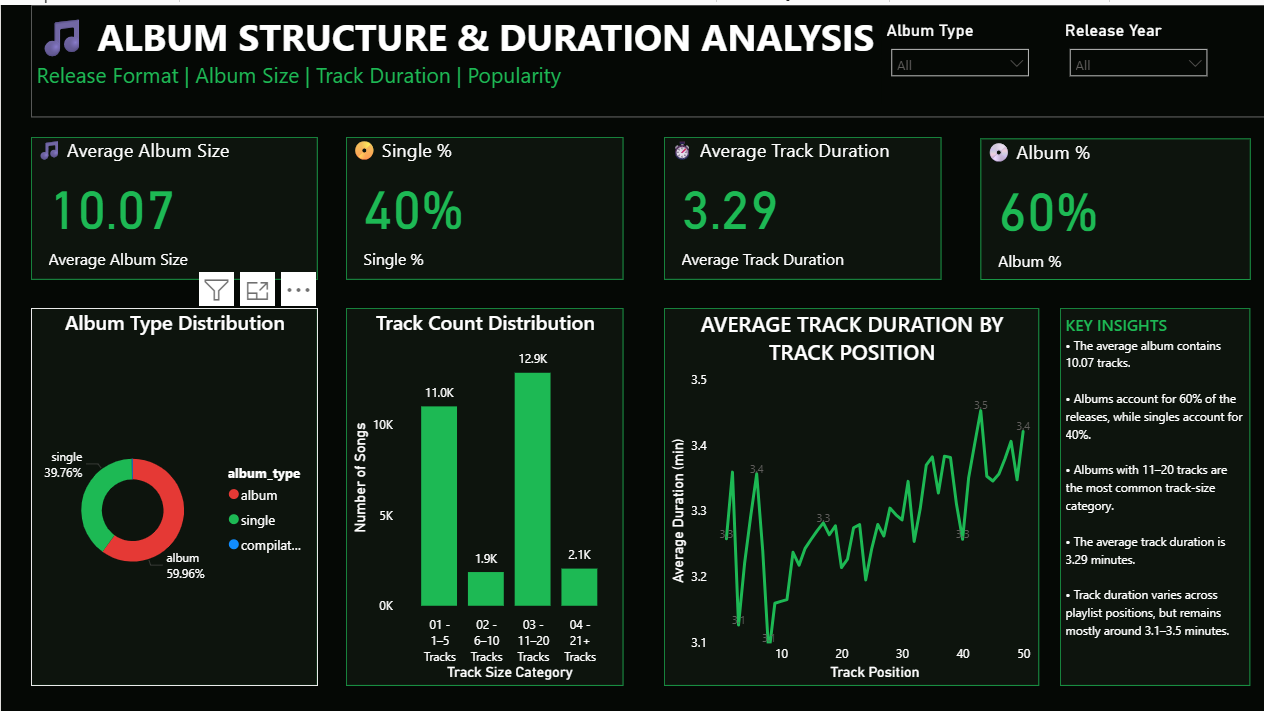

The page's visual inventory and layout, read from the dashboard file:
{"tool":"powerbi","page":{"name":"Page 3","canvas":[1280,720],"ordinal":2},"visuals":[{"type":"cardVisual","title":"🎵 Average Album Size","fields":{"Data":["Atlantic_United_Kingdom.Average Album Size"]},"box":[30.3,133.3,289.2,143.8],"z":0},{"type":"cardVisual","title":"📀 Single %","fields":{"Data":["Atlantic_United_Kingdom.Single %"]},"box":[348.3,133.3,280.1,143.8],"z":1000},{"type":"cardVisual","title":"⏱️ Average Track Duration","fields":{"Data":["Atlantic_United_Kingdom.Average Track Duration"]},"box":[669.3,133.3,280.1,143.8],"z":2000},{"type":"cardVisual","title":"💿 Album %","fields":{"Data":["Atlantic_United_Kingdom.Album %"]},"box":[988.8,134.8,272.6,142.3],"z":3000},{"type":"donutChart","title":"Album Type Distribution","fields":{"Category":["Atlantic_United_Kingdom.album_type"],"Y":["CountNonNull(Atlantic_United_Kingdom.song)"]},"box":[30.3,305.9,289.2,381.6],"z":4000},{"type":"columnChart","title":"Track Count Distribution","fields":{"Category":["Atlantic_United_Kingdom.Track Size Category"],"Y":["CountNonNull(Atlantic_United_Kingdom.song)"]},"box":[348.3,305.9,280.1,381.6],"z":5000},{"type":"lineChart","title":"AVERAGE TRACK DURATION BY TRACK POSITION","fields":{"Category":["Atlantic_United_Kingdom.position"],"Y":["Atlantic_United_Kingdom.Average Track Duration"]},"box":[669.3,305.9,378.6,381.6],"z":6000},{"type":"textbox","box":[1069,305.9,192.3,381.6],"z":7000},{"type":"textbox","box":[30.3,0,1249.2,113.6],"z":8000},{"type":"slicer","title":"Album Type","fields":{"Values":["Atlantic_United_Kingdom.album_type"]},"box":[888.8,15.1,159,84.8],"z":9000},{"type":"slicer","title":"Release Year","fields":{"Values":["Atlantic_United_Kingdom.Release Year"]},"box":[1069,15.1,159,84.8],"z":10000}]}

Visuals, with their boxes in screenshot pixels (x1, y1, x2, y2), scaled from the page's 1280x720 canvas onto the 1264x711 screenshot:
"🎵 Average Album Size" cardVisual: <region>30, 132, 316, 274</region>
"📀 Single %" cardVisual: <region>344, 132, 621, 274</region>
"⏱️ Average Track Duration" cardVisual: <region>661, 132, 938, 274</region>
"💿 Album %" cardVisual: <region>976, 133, 1246, 274</region>
"Album Type Distribution" donutChart: <region>30, 302, 316, 679</region>
"Track Count Distribution" columnChart: <region>344, 302, 621, 679</region>
"AVERAGE TRACK DURATION BY TRACK POSITION" lineChart: <region>661, 302, 1035, 679</region>
textbox: <region>1056, 302, 1246, 679</region>
textbox: <region>30, 0, 1263, 112</region>
"Album Type" slicer: <region>878, 15, 1035, 99</region>
"Release Year" slicer: <region>1056, 15, 1213, 99</region>
